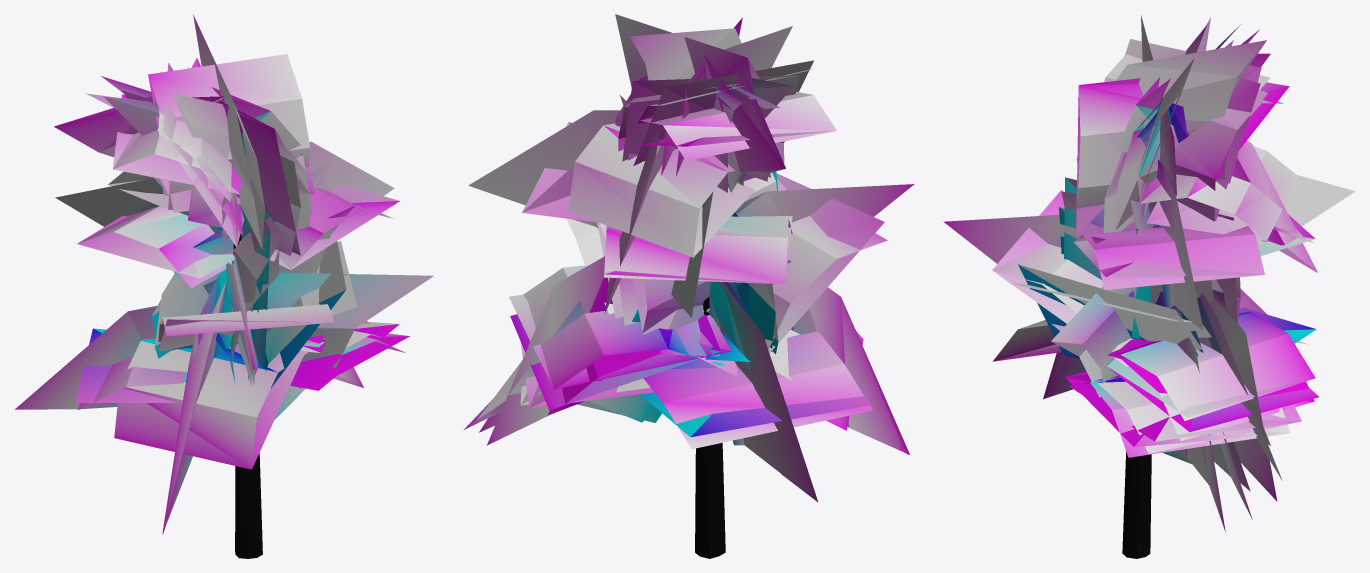
Rendered from ekasia_tumula_01_b.dae.
3 renders of one model, left to right at view 1: azimuth 30°, elevation 25°; view 2: azimuth 150°, elevation 25°; view 3: azimuth 270°, elevation 25°, orthographic. The views are drawn at different scales.
Visible parts, largest first — view 1: ekasia160, ekasia80; view 2: ekasia160, ekasia80; view 3: ekasia160, ekasia80.
Part boxes in pixels (box(x1,y1,x2,y2)): ekasia160: box(15, 54, 405, 558); ekasia80: box(56, 14, 433, 558); ekasia160: box(464, 23, 901, 558); ekasia80: box(468, 14, 914, 558); ekasia160: box(943, 15, 1336, 558); ekasia80: box(992, 17, 1355, 547).
Size of what is drawn, in the model's own units: 13.37 by 13.29 by 18.36.
